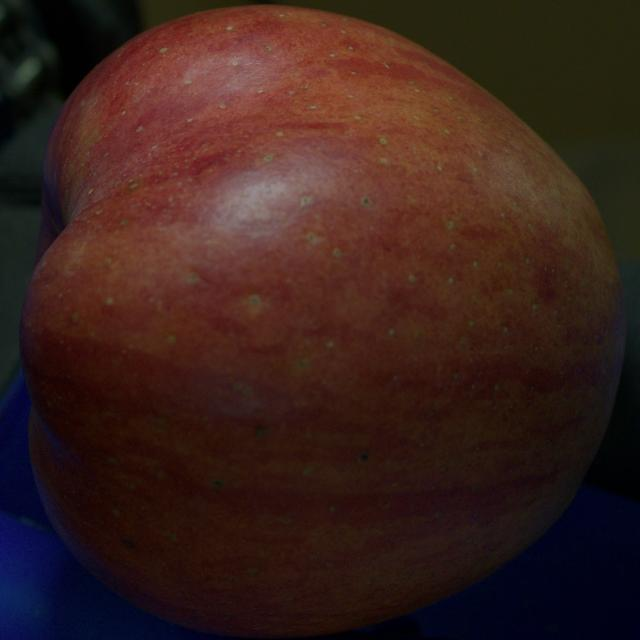apple: (20, 6, 625, 637)
